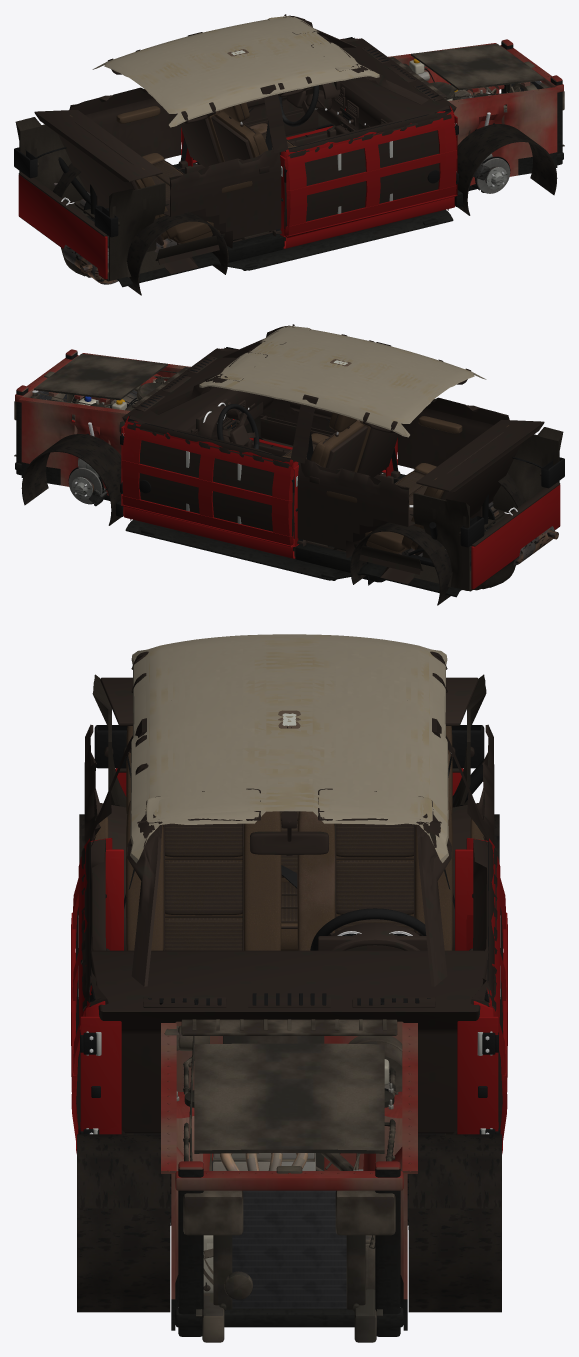
Rendered from cuiabano-molde_completo.glb.
3 renders of one model, top to bottom at view 1: azimuth 30°, elevation 25°; view 2: azimuth 150°, elevation 25°; view 3: azimuth 270°, elevation 25°, orthographic. The views are drawn at different scales.
Visible parts, largest first — view 1: interior_forro_teto, interior_portamalas_carpete, door_card_fr_chapa, interior_lateral_traseira_dir, door_card_fr, interior_painel, engine_paralama_interno_dir, interior_lateral_traseira_esq, hood_manta, under_assoalho, interior_banco_traseiro, interior_portamalas_tampao (+23 smaller); view 2: interior_forro_teto, interior_portamalas_carpete, door_card_fl_chapa, interior_lateral_traseira_esq, door_card_fl, interior_painel, engine_paralama_interno_esq, interior_lateral_traseira_dir, hood_manta, under_assoalho, interior_banco_traseiro, interior_portamalas_tampao (+23 smaller); view 3: interior_forro_teto, interior_painel, hood_manta, engine_travessa, interior_banco_dianteiro_dir, under_caixa_roda_fl, under_caixa_roda_fr, engine_radiador, interior_banco_dianteiro_esq, interior_acabamento_colunas, engine_corta_fogo, jamb_fl_colunas (+21 smaller).
Part boxes in pixels (x1,y1,x2,y2): interior_forro_teto: [92, 16, 379, 127]; interior_portamalas_carpete: [15, 117, 165, 281]; door_card_fr_chapa: [281, 106, 457, 238]; interior_lateral_traseira_dir: [163, 149, 281, 274]; door_card_fr: [279, 105, 451, 228]; interior_painel: [310, 38, 456, 131]; engine_paralama_interno_dir: [448, 87, 559, 185]; interior_lateral_traseira_esq: [69, 87, 180, 208]; hood_manta: [411, 43, 544, 92]; under_assoalho: [87, 209, 453, 287]; interior_banco_traseiro: [58, 115, 219, 245]; interior_portamalas_tampao: [34, 110, 162, 182]; interior_forro_teto: [199, 326, 486, 437]; interior_portamalas_carpete: [407, 427, 563, 591]; door_card_fl_chapa: [121, 416, 298, 548]; interior_lateral_traseira_esq: [297, 459, 415, 584]; door_card_fl: [127, 415, 299, 538]; interior_painel: [122, 348, 274, 437]; engine_paralama_interno_esq: [19, 397, 130, 495]; interior_lateral_traseira_dir: [398, 397, 509, 518]; hood_manta: [34, 353, 167, 402]; under_assoalho: [125, 519, 491, 597]; interior_banco_traseiro: [359, 425, 520, 555]; interior_portamalas_tampao: [416, 420, 544, 492]; interior_forro_teto: [130, 634, 448, 863]; interior_painel: [90, 922, 488, 1133]; hood_manta: [194, 1043, 384, 1153]; engine_travessa: [175, 1153, 403, 1336]; interior_banco_dianteiro_dir: [126, 801, 281, 950]; under_caixa_roda_fl: [408, 1134, 501, 1312]; under_caixa_roda_fr: [77, 1134, 170, 1312]; engine_radiador: [213, 1170, 365, 1311]; interior_banco_dianteiro_esq: [297, 801, 452, 950]; interior_acabamento_colunas: [90, 718, 488, 986]; engine_corta_fogo: [164, 1019, 403, 1170]; jamb_fl_colunas: [455, 849, 498, 1134].
Size of what is drawn, in the model's own units: 3.56 by 1.24 by 1.38.
Materials: 53 (53 with a texture image).
